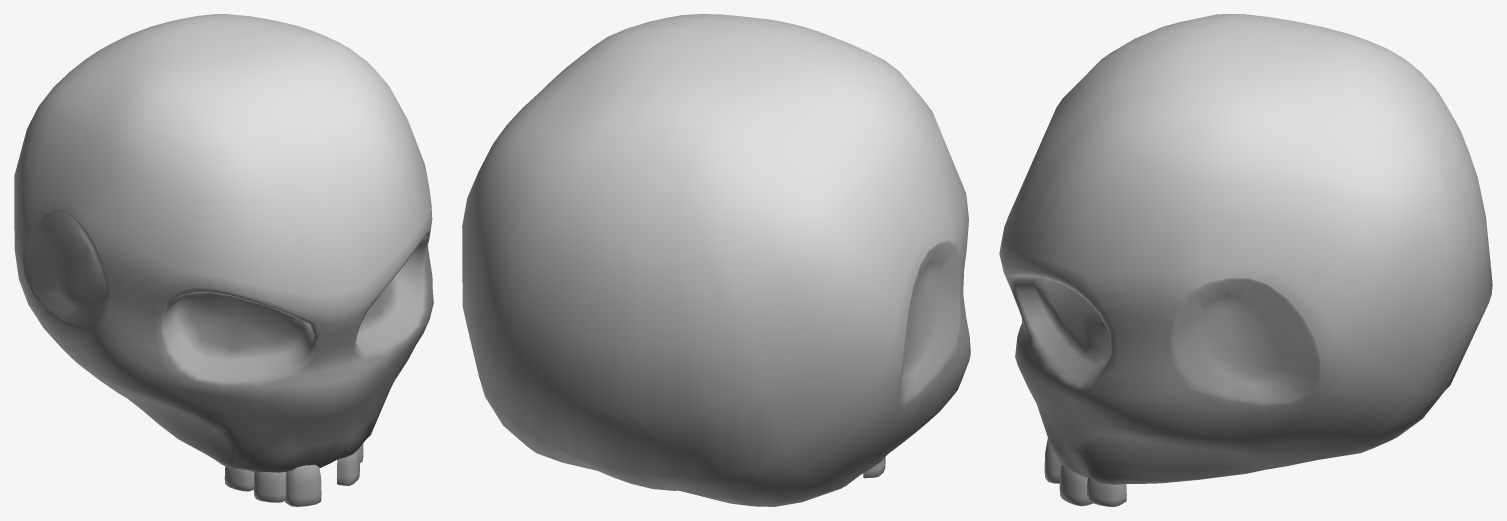
Rendered from kafa.fbx.
3 renders of one model, left to right at view 1: azimuth 30°, elevation 25°; view 2: azimuth 150°, elevation 25°; view 3: azimuth 270°, elevation 25°, orthographic. The views are drawn at different scales.
Visible parts, largest first — view 1: Skeleton_.004; view 2: Skeleton_.004; view 3: Skeleton_.004.
Part boxes in pixels (x1,y1,x2,y2): Skeleton_.004: (14,14,433,506); Skeleton_.004: (462,14,970,506); Skeleton_.004: (999,14,1492,506).
Size of the model in its own units: 34.1 by 36.01 by 36.91.
